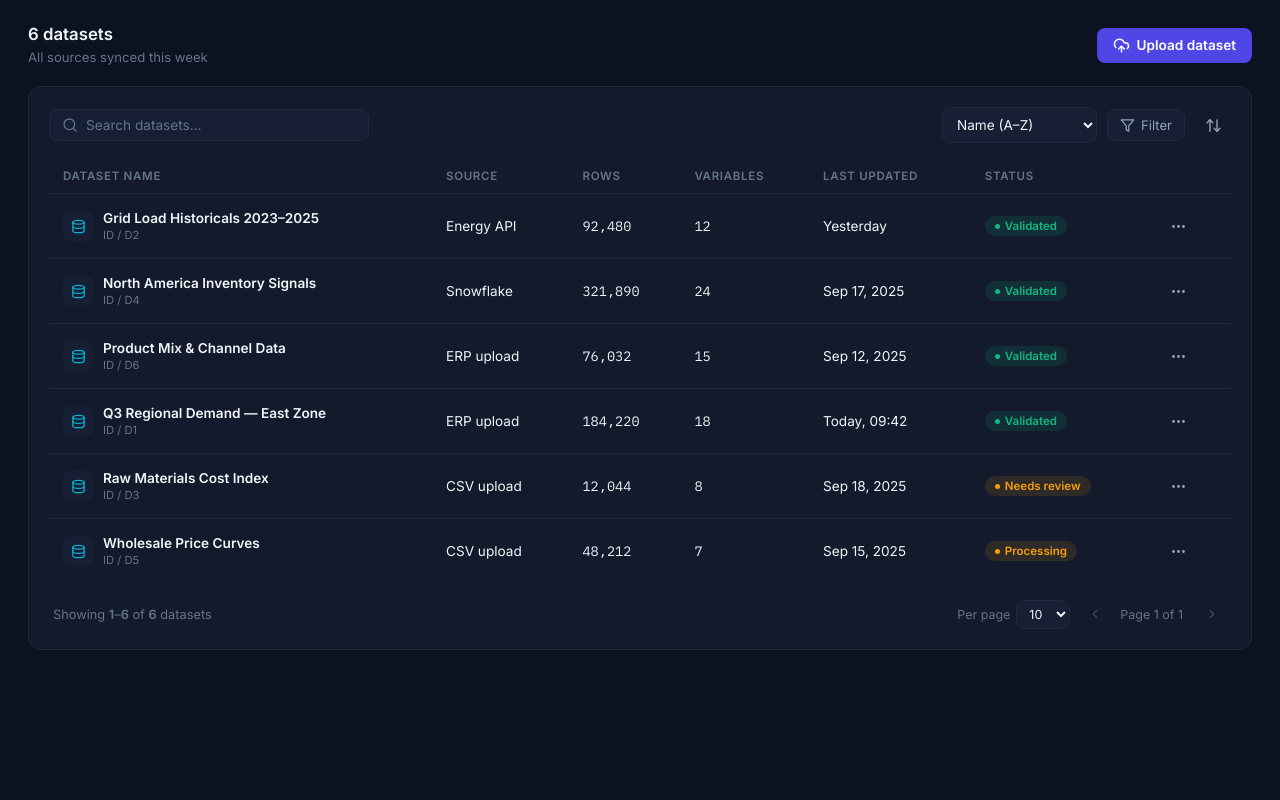
Scenario: DatasetsPage › deletes a dataset once the confirmation is accepted
Click the button named "Options for" at coordinates (1179, 226), box [1161,208,1197,244]
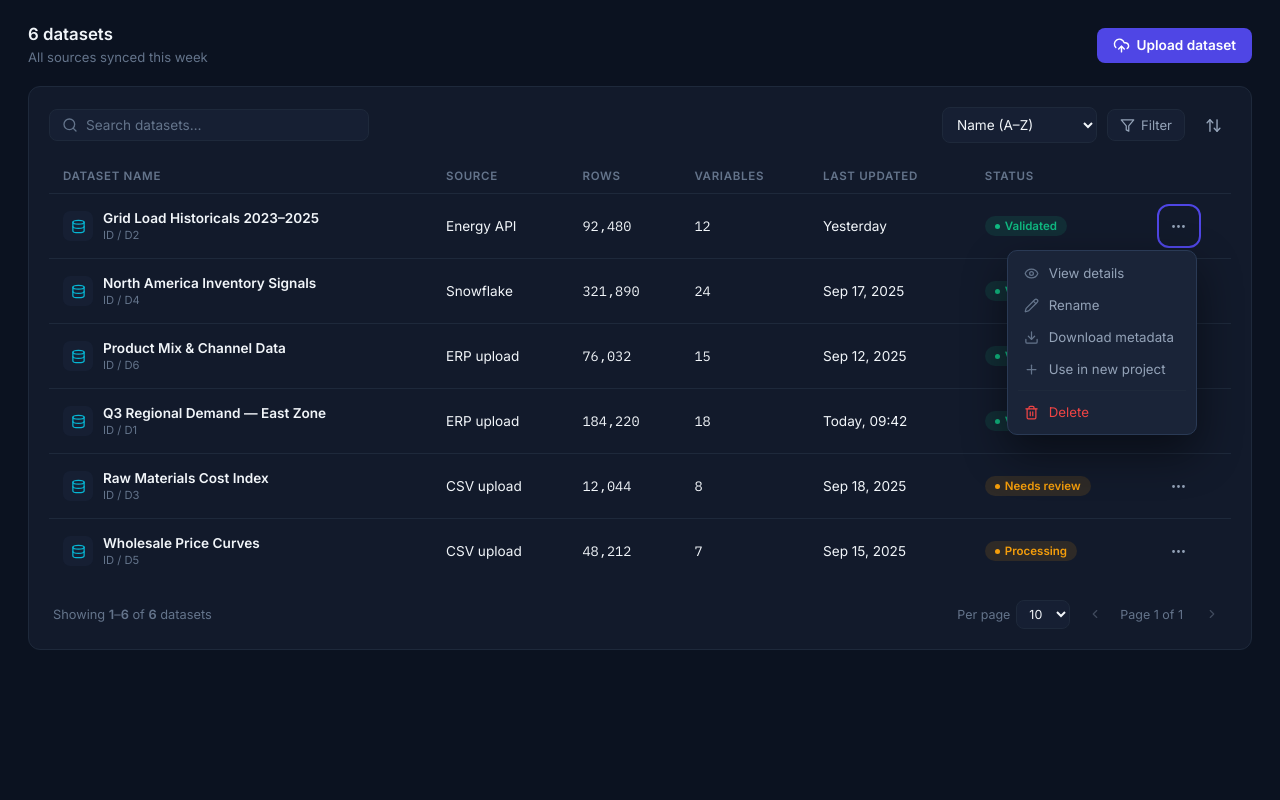
Click the menu item "Delete" at coordinates (1102, 412), box [1014,396,1190,428]
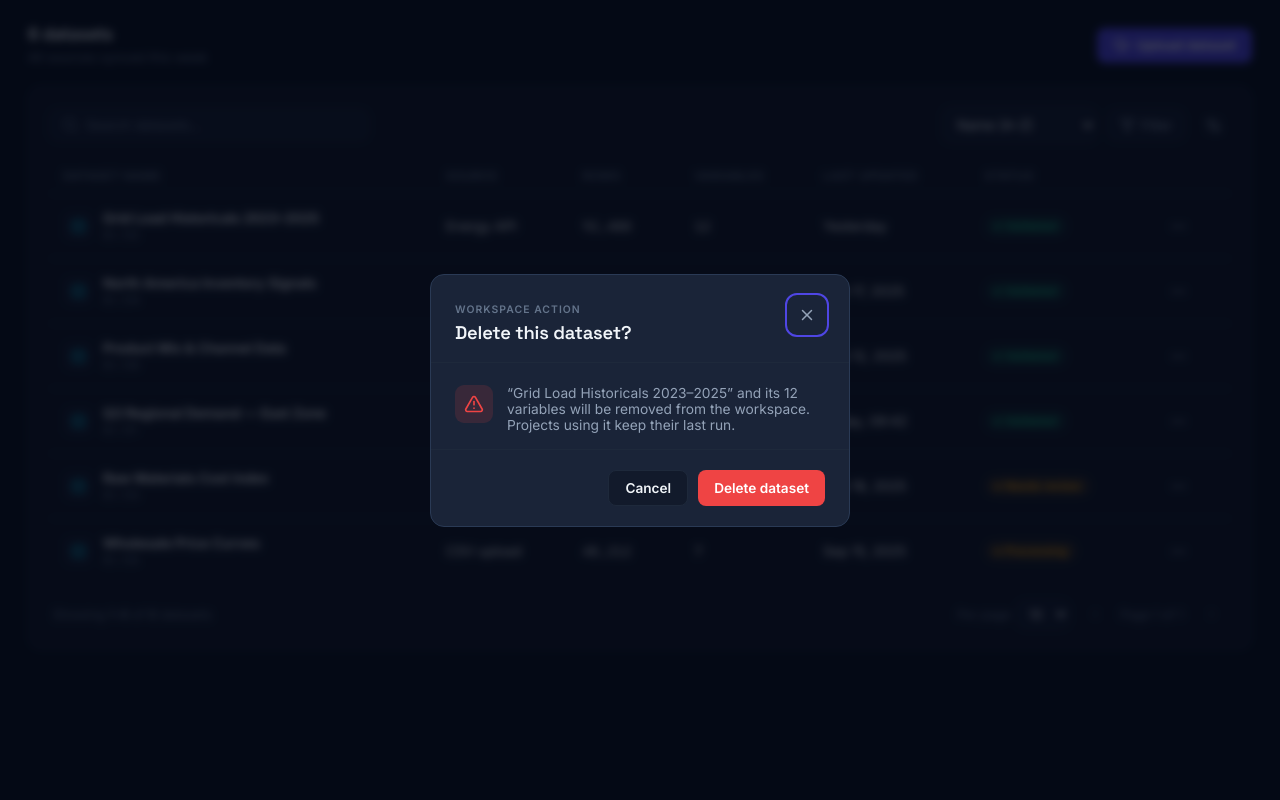
Click the button "Delete dataset" at coordinates (762, 488), box [698,470,825,506]
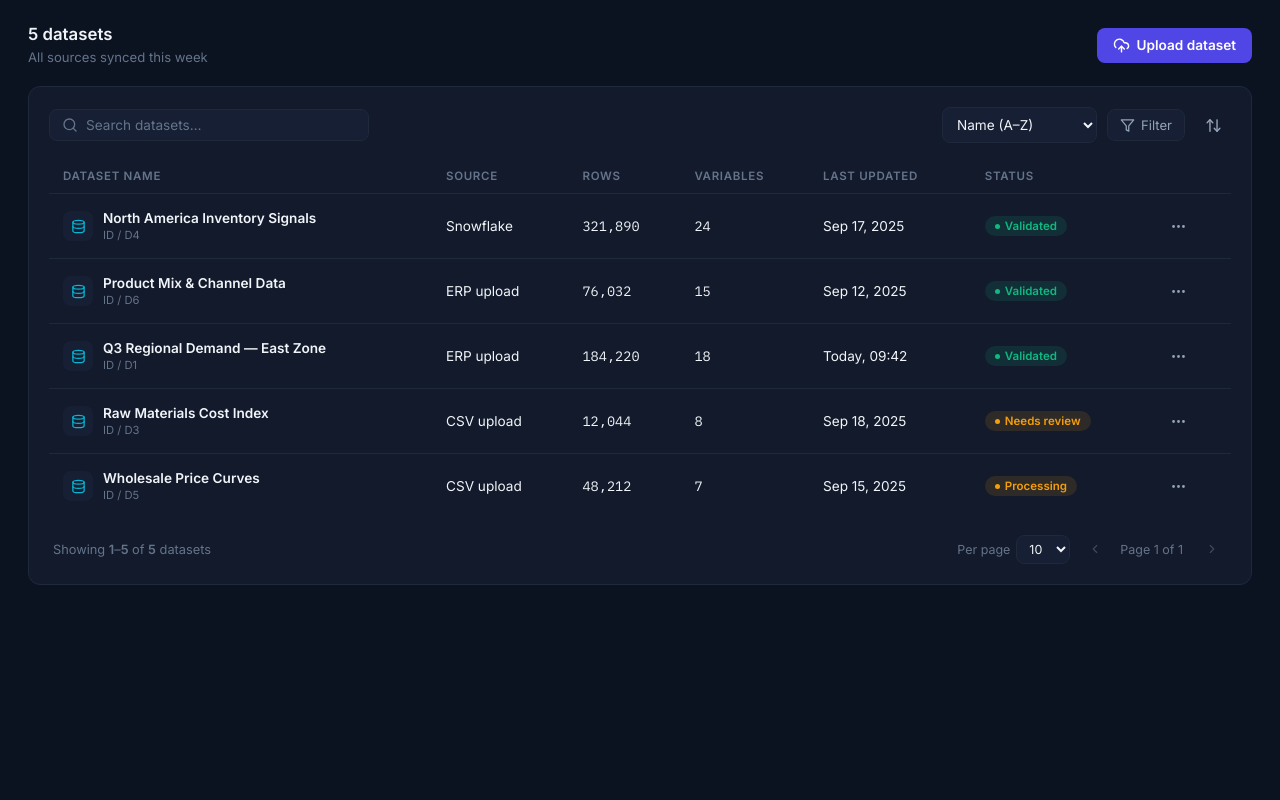
Expected: the number of buttons named "Options for" is 5, [1161,208,1197,244]; [1161,273,1197,309]; [1161,338,1197,374]; [1161,403,1197,439]; [1161,468,1197,504]
